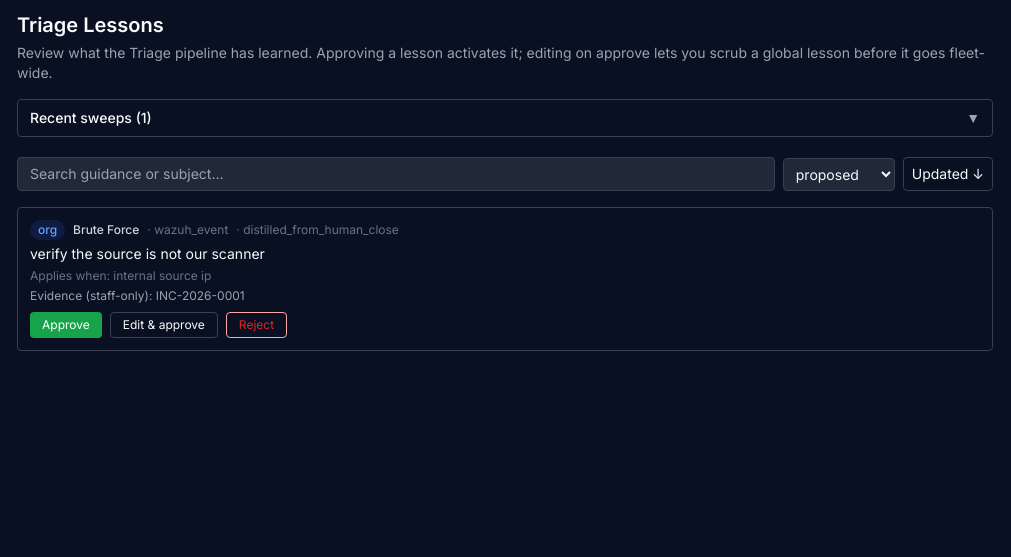
TriageLessonsReview — recent sweeps (#697) › expands a sweep to show per-cluster outcomes, including a skipped one
The image size is (1011, 557).
Click the text "Recent sweeps (1)".
click(91, 118)  # box [30,108,152,128]
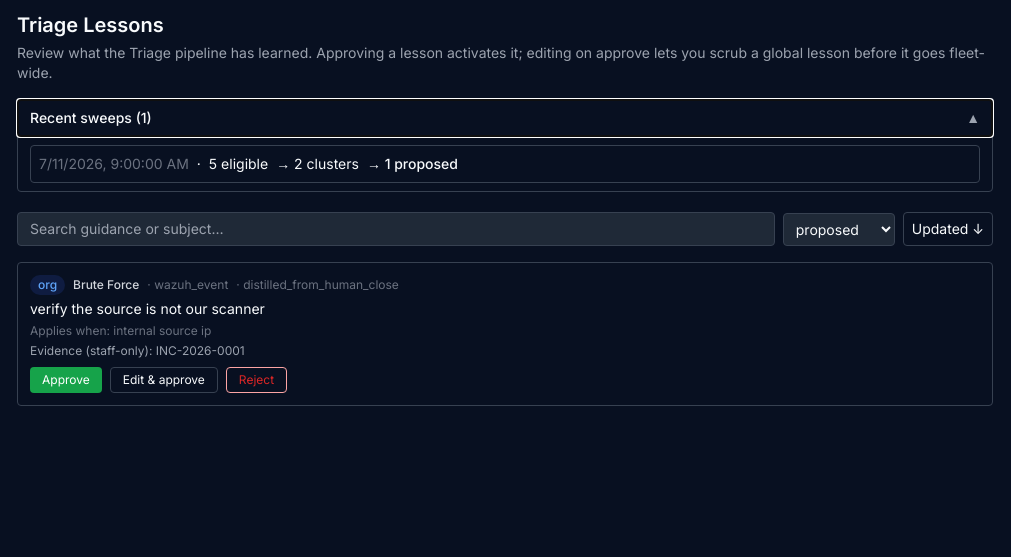
Now the text "5 eligible" is shown, box [209,154,268,174]
# Expand the run to reveal the per-cluster breakdown.
Click the text "→ 1 proposed".
click(412, 164)  # box [367,154,458,174]
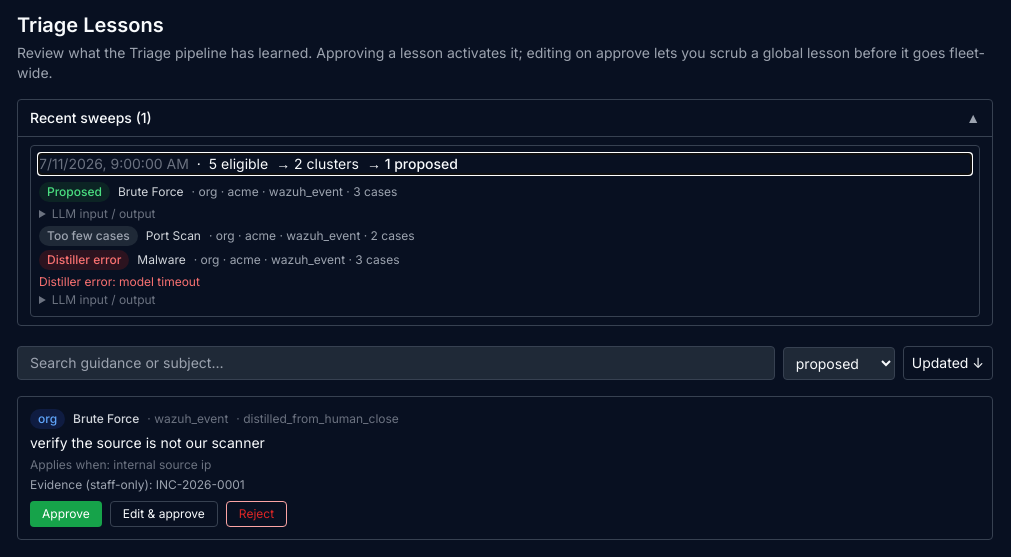
Now the text "Proposed" is shown, box [39,182,110,202]
Now the text "Too few cases" is shown, box [39,226,138,246]
Now the text "Port Scan" is shown, box [146,228,201,244]
